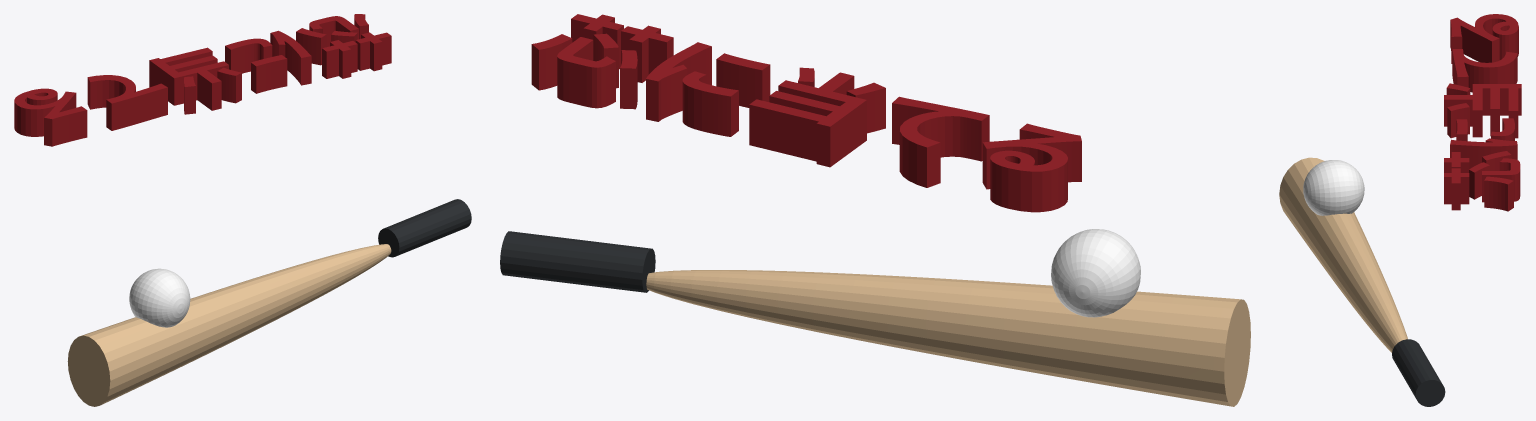
File: tinker.obj
3 views of the same model, side by side, from view 1: azimuth 30°, elevation 25°; view 2: azimuth 150°, elevation 25°; view 3: azimuth 270°, elevation 25° (orthographic). The views are drawn at different scales.
Parts seen in each view (by area): view 1: group_0_9771553, group_0_14860437, group_0_16448250, group_0_2829873; view 2: group_0_14860437, group_0_9771553, group_0_2829873, group_0_16448250; view 3: group_0_9771553, group_0_14860437, group_0_16448250, group_0_2829873.
Boxes of the visible parts, <box> form: group_0_9771553: <box>14,14,391,146</box>; group_0_14860437: <box>67,244,391,406</box>; group_0_16448250: <box>129,268,190,327</box>; group_0_2829873: <box>378,199,471,257</box>; group_0_14860437: <box>646,270,1250,406</box>; group_0_9771553: <box>531,14,1081,212</box>; group_0_2829873: <box>500,231,655,292</box>; group_0_16448250: <box>1051,229,1140,317</box>; group_0_9771553: <box>1444,14,1521,211</box>; group_0_14860437: <box>1279,157,1407,352</box>; group_0_16448250: <box>1303,160,1364,215</box>; group_0_2829873: <box>1392,339,1445,406</box>.
Bounding box in the file's own units: 168 × 82 × 81.
